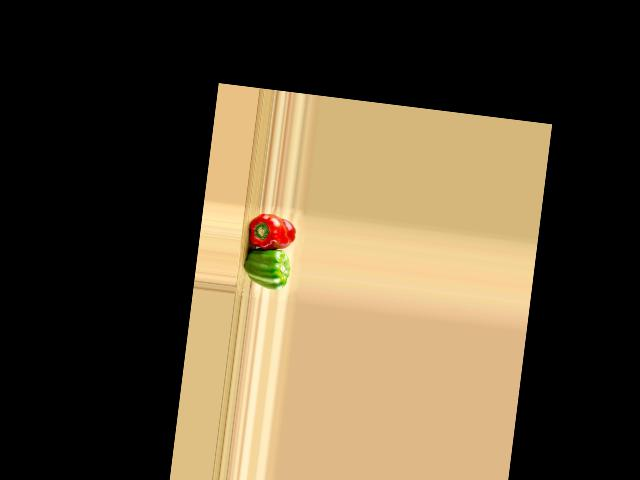bell_pepper: (247, 210, 298, 254)
